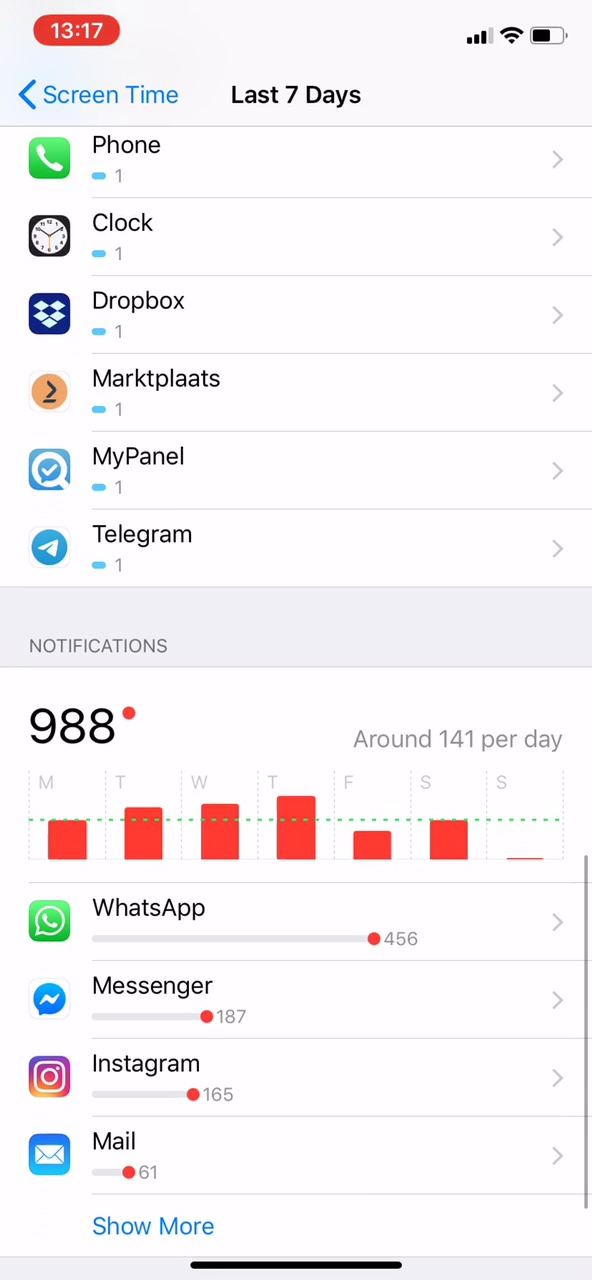not_app: (22, 885, 453, 963), (14, 1032, 309, 1113), (17, 967, 353, 1035), (11, 1116, 251, 1191)
not_over: (15, 611, 222, 761)
pick_app: (26, 436, 276, 511), (25, 355, 273, 430), (22, 516, 289, 580), (26, 200, 236, 280), (26, 285, 245, 355), (22, 125, 222, 199)
week: (213, 73, 384, 116)
